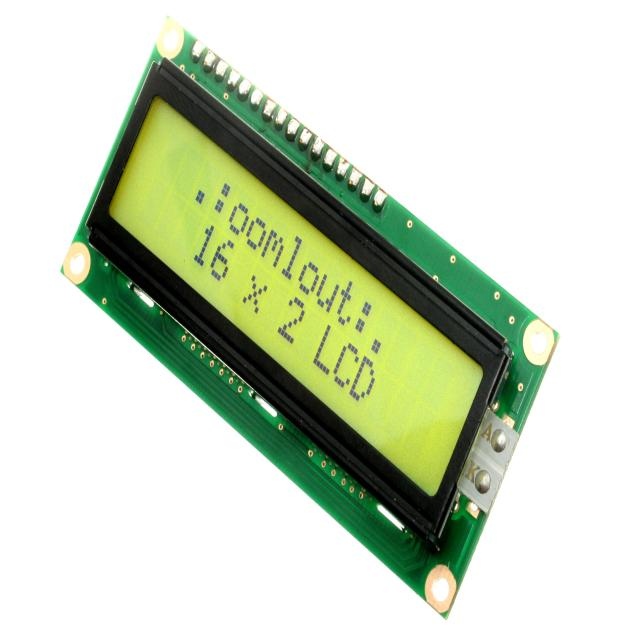Display: (54, 12, 564, 626)
